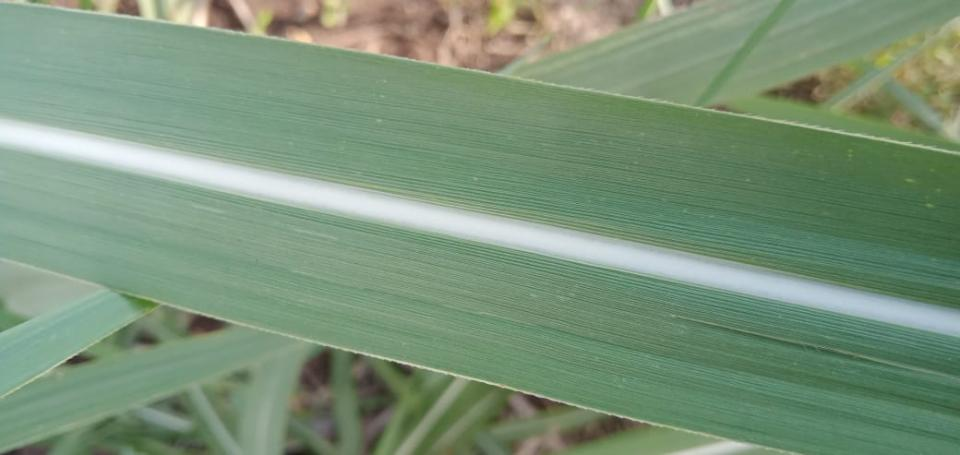Healthy: (0, 146, 959, 454), (0, 4, 959, 311), (0, 324, 300, 454), (0, 286, 159, 401)
